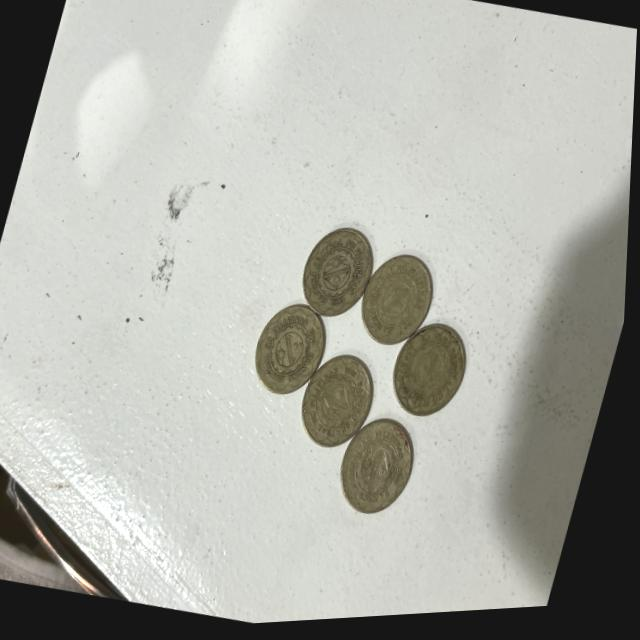5_Old_Back: (292, 219, 385, 334), (332, 417, 426, 526), (295, 344, 384, 458), (388, 314, 478, 426), (245, 297, 340, 403), (355, 247, 440, 356)
